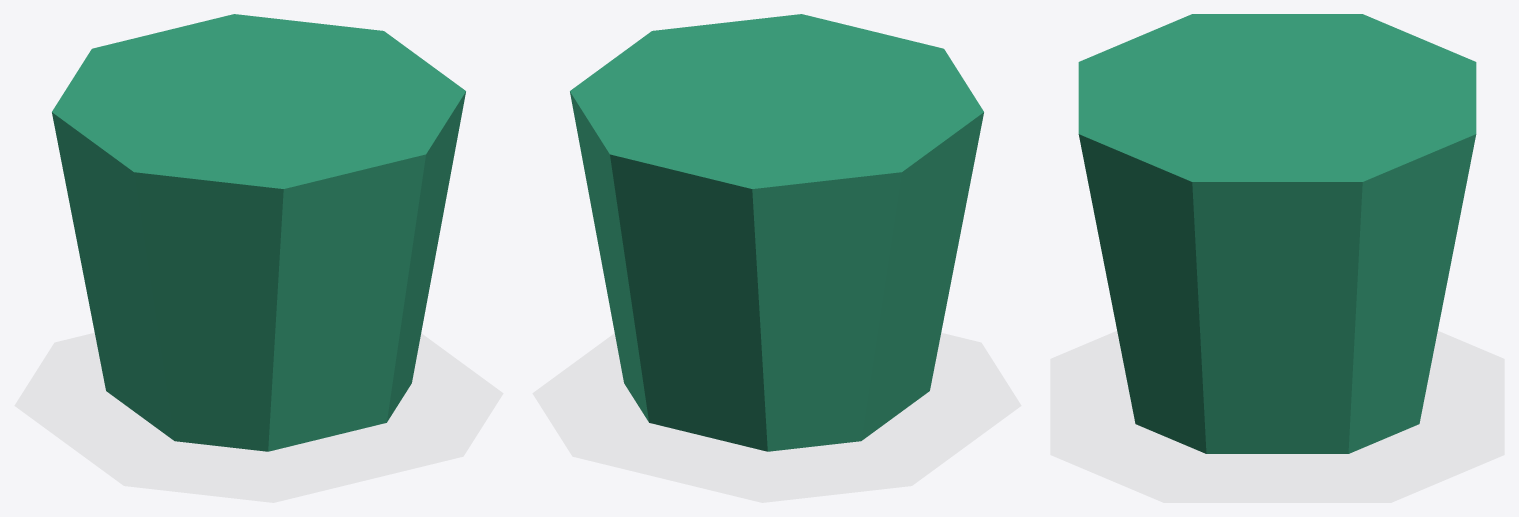
The model's file is GarbageCan.obj.
3 renders of one model, left to right at view 1: azimuth 30°, elevation 25°; view 2: azimuth 150°, elevation 25°; view 3: azimuth 270°, elevation 25°, orthographic. The views are drawn at different scales.
Parts seen in each view (by area): view 1: polygon1; view 2: polygon1; view 3: polygon1.
Boxes of the visible parts, <box> form: polygon1: <box>52,14,465,451</box>; polygon1: <box>570,14,983,451</box>; polygon1: <box>1078,14,1476,453</box>.
Size of the model in its own units: 16 by 12 by 16.
2 materials, 2 textured.
